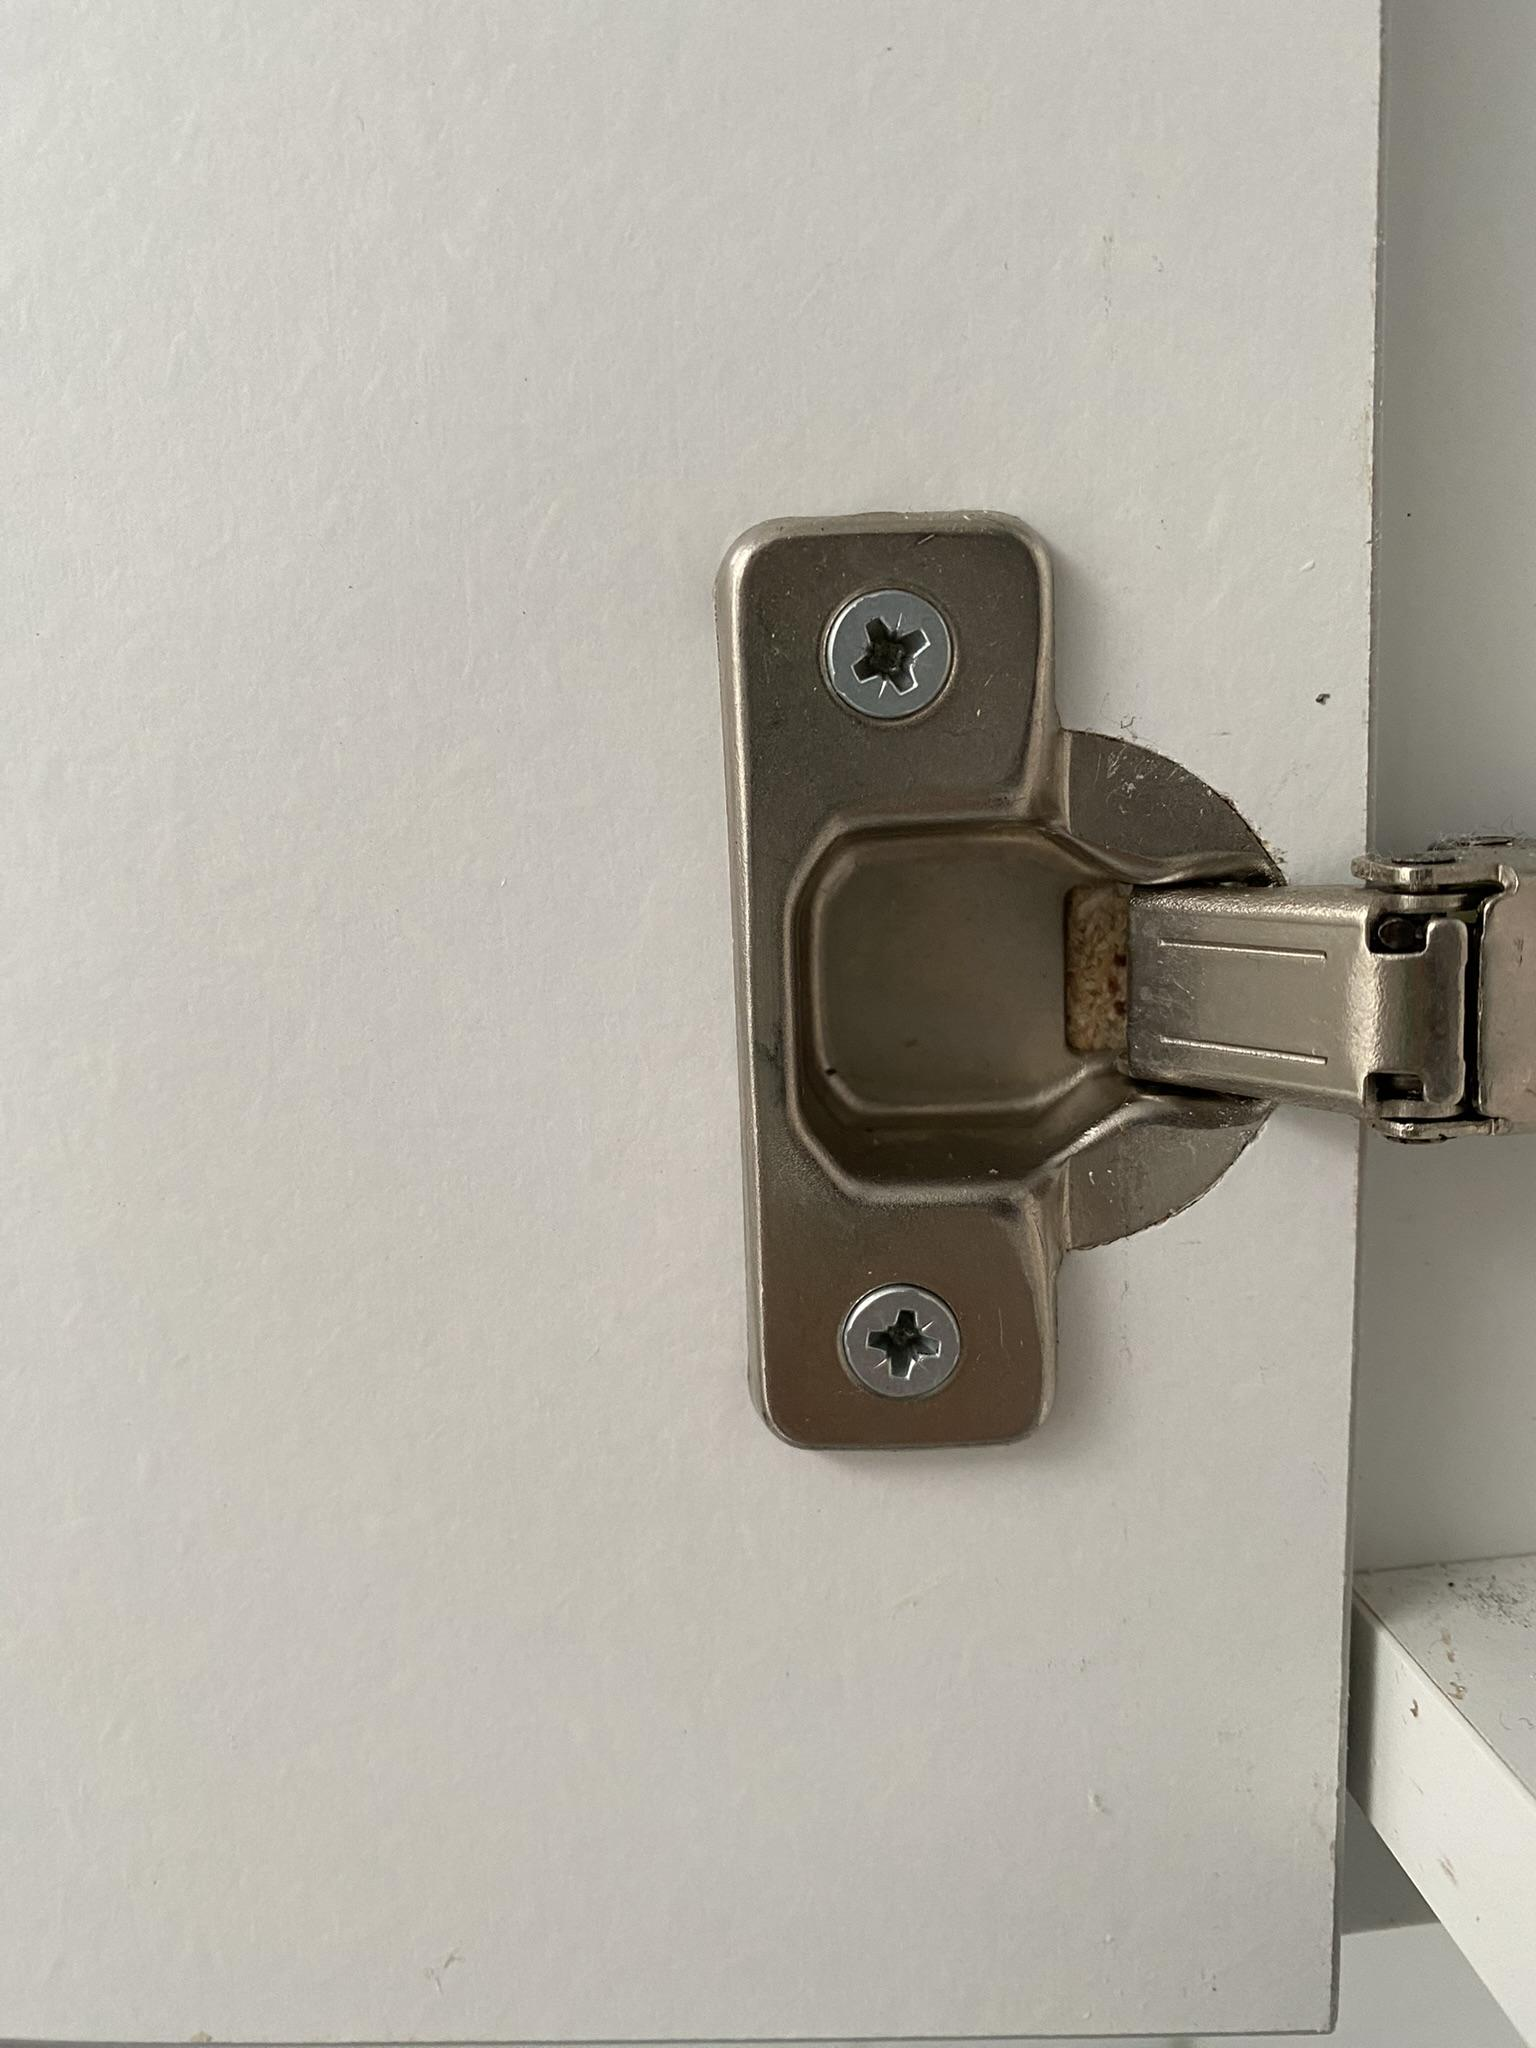PH: (826, 589, 954, 719), (841, 1284, 966, 1401)
